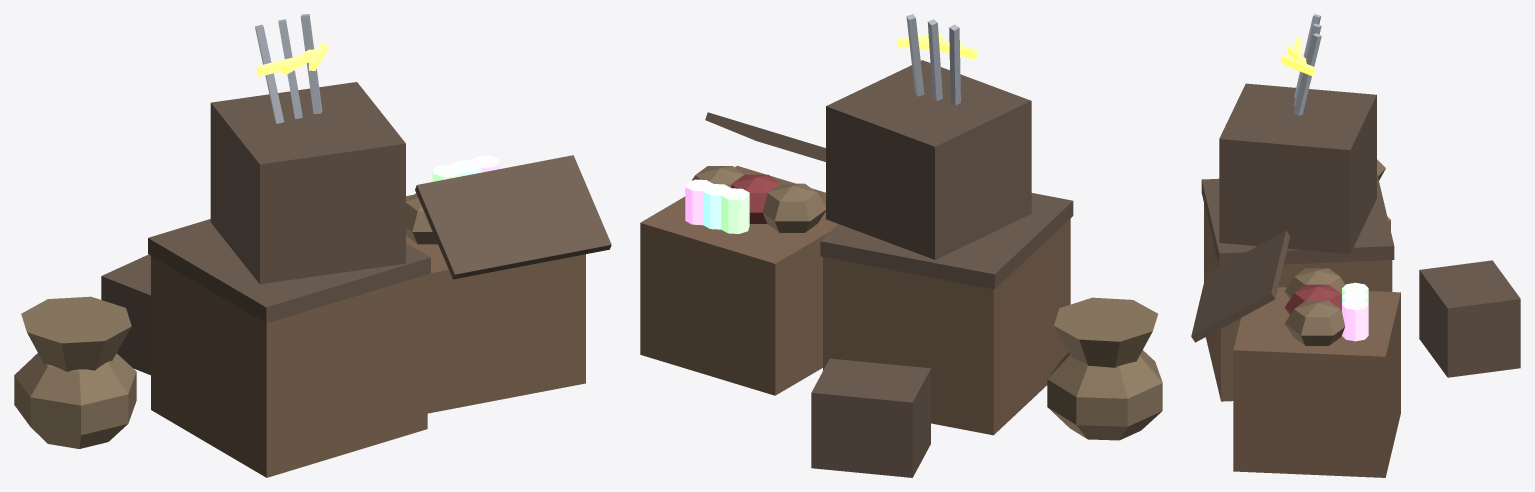
Rendered from crate_stack.glb.
3 views of the same model, side by side, from view 1: azimuth 30°, elevation 25°; view 2: azimuth 150°, elevation 25°; view 3: azimuth 270°, elevation 25° (orthographic). The views are drawn at different scales.
Visible parts, largest first — view 1: crate_stack; view 2: crate_stack; view 3: crate_stack.
Part boxes in pixels (x1=…): crate_stack: x1=14, y1=14, x2=611, y2=477; crate_stack: x1=640, y1=14, x2=1162, y2=477; crate_stack: x1=1191, y1=14, x2=1520, y2=477.
Size of the model in its own units: 2.72 by 1.96 by 1.72.
